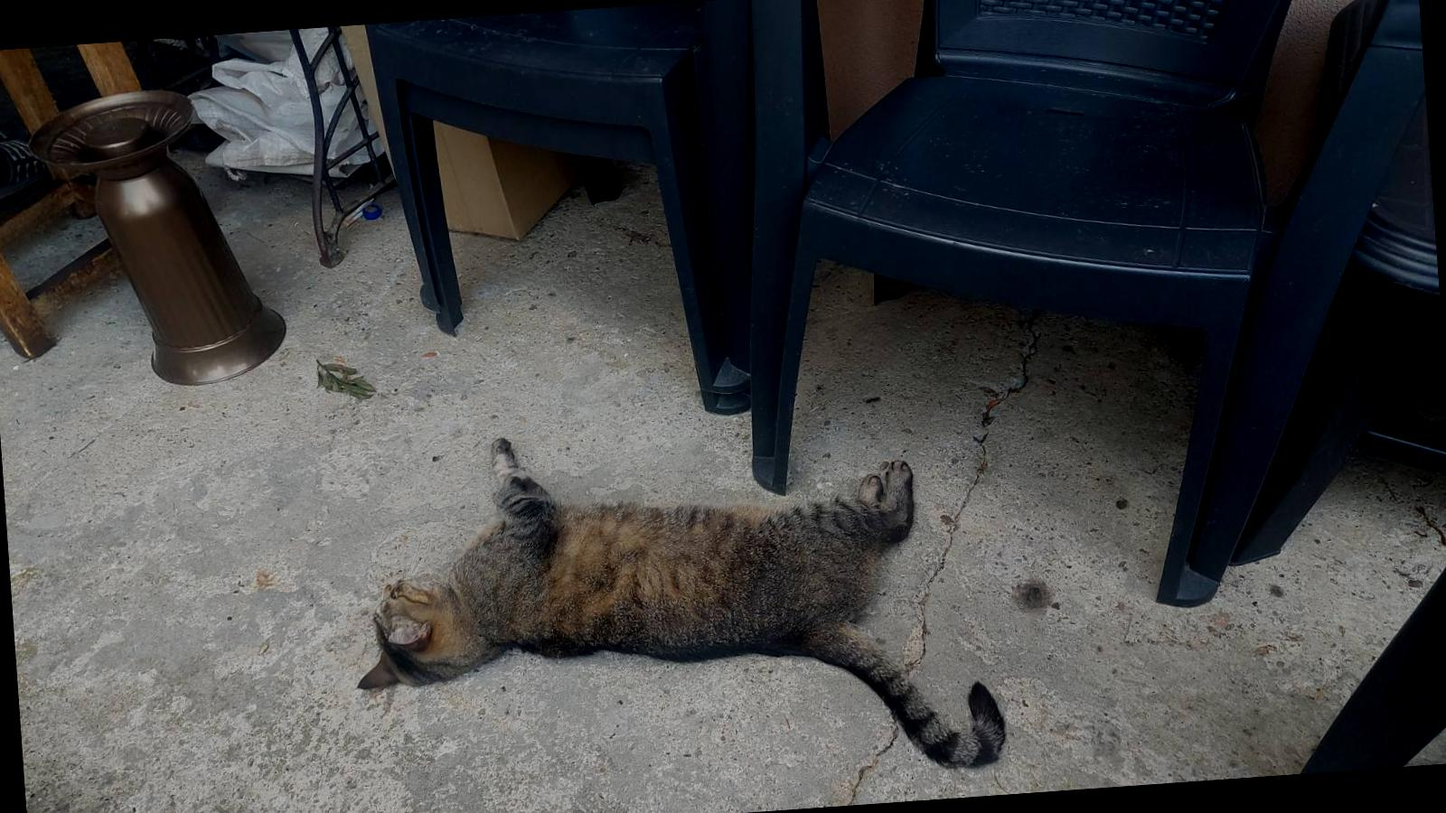macka: (338, 402, 1008, 808)
